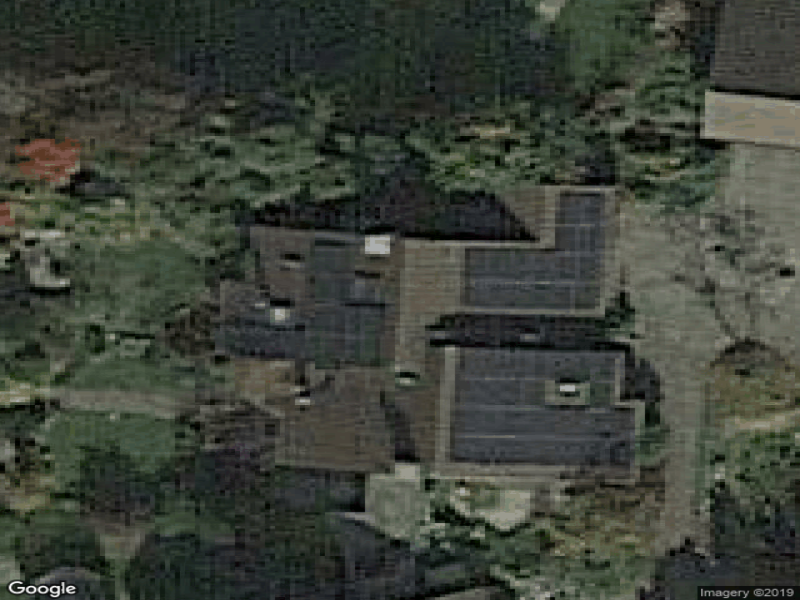pv: (451, 345, 637, 468), (462, 191, 606, 313)
